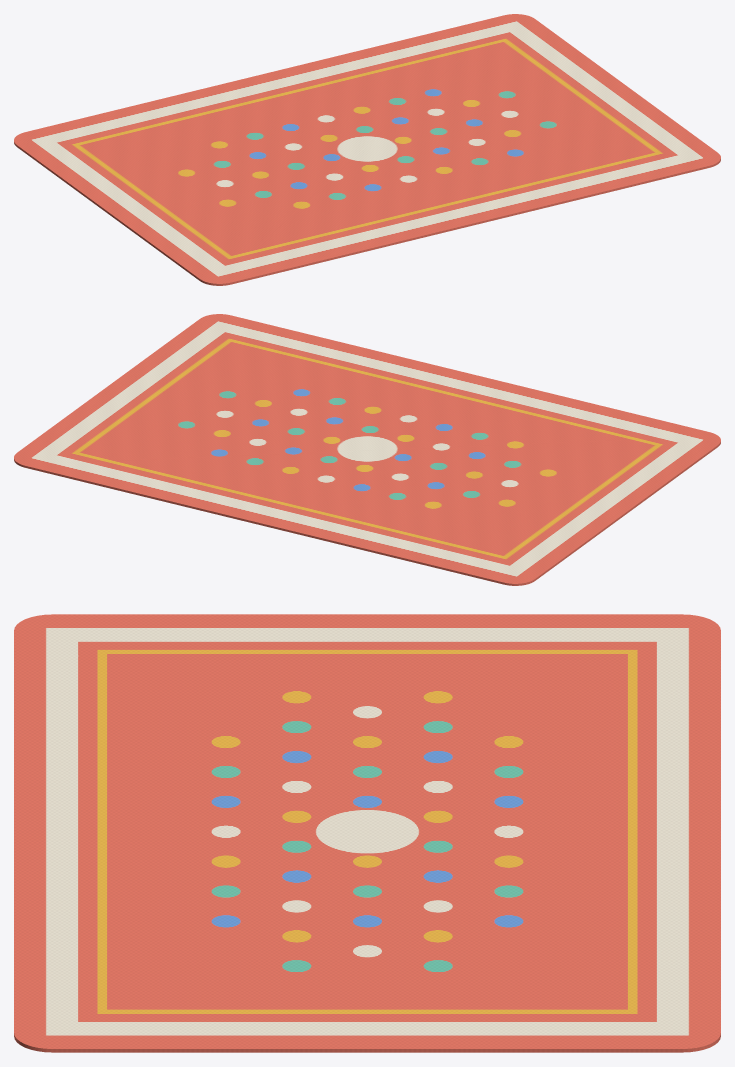
File: rug.glb
3 views of the same model, one above another, from view 1: azimuth 30°, elevation 25°; view 2: azimuth 150°, elevation 25°; view 3: azimuth 270°, elevation 25° (orthographic). The views are drawn at different scales.
Visible parts, largest first — view 1: RugCartoon; view 2: RugCartoon; view 3: RugCartoon.
Boxes of the visible parts, box(x1,y1,x2,y2) form: RugCartoon: box(14, 14, 720, 285); RugCartoon: box(14, 314, 720, 585); RugCartoon: box(14, 614, 720, 1052).
Size of the model in its own units: 3.2 by 0.012 by 2.2.
Materials: 1 (1 with a texture image).
